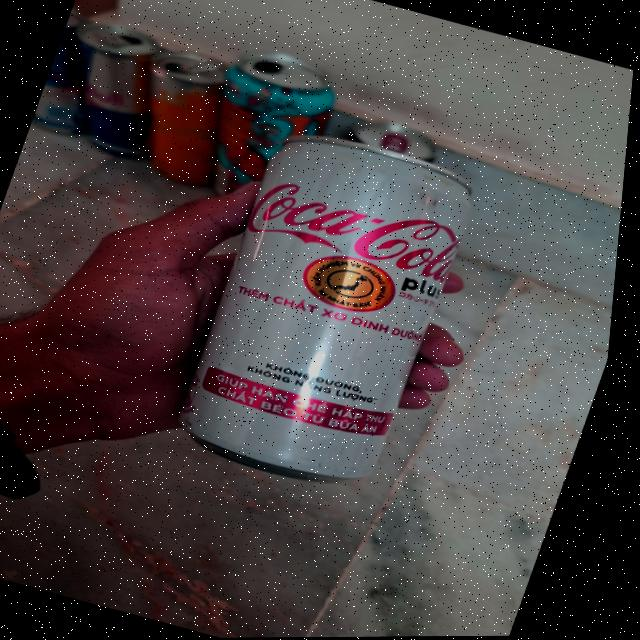Coca Cola Plus: (164, 124, 481, 506)
